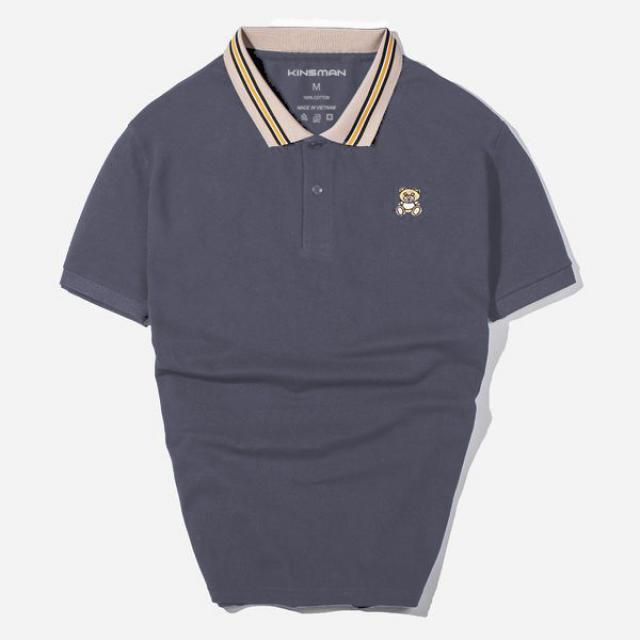Shirt: (54, 20, 582, 617)
